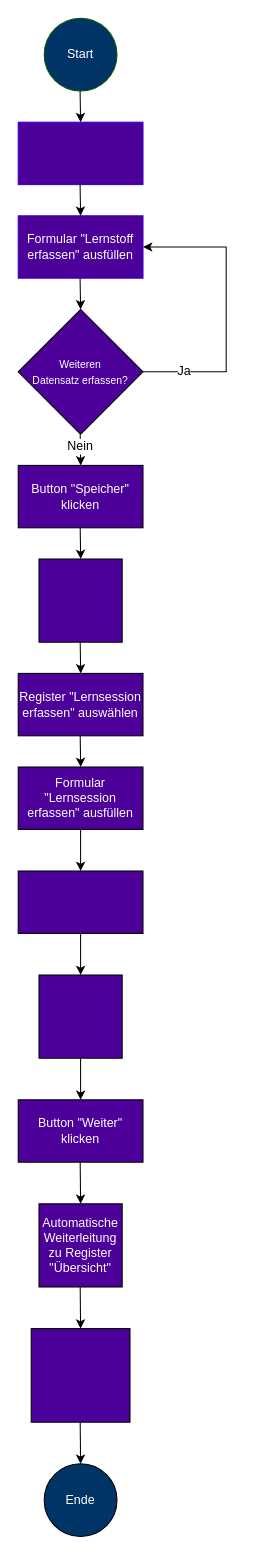
Image size: 253x1555. Some labels were removed from this diagram. The shapes that lost their labels are listed below. From the top down, each one's centre as x and y in pixels, then its label:
the point at 80,153: Register "Lernstoff erfassen" auswählen
the point at 80,600: Automatische Weiterleitung zu Register "Ranking"
the point at 80,901: Button "Lernsession speichern" klicken
the point at 80,1016: Automatischer Aufruf Bestätigungs- seite
the point at 80,1375: Berechnungen und Analyse von gespeicherten Lernstoffen sowie Lernsessions
